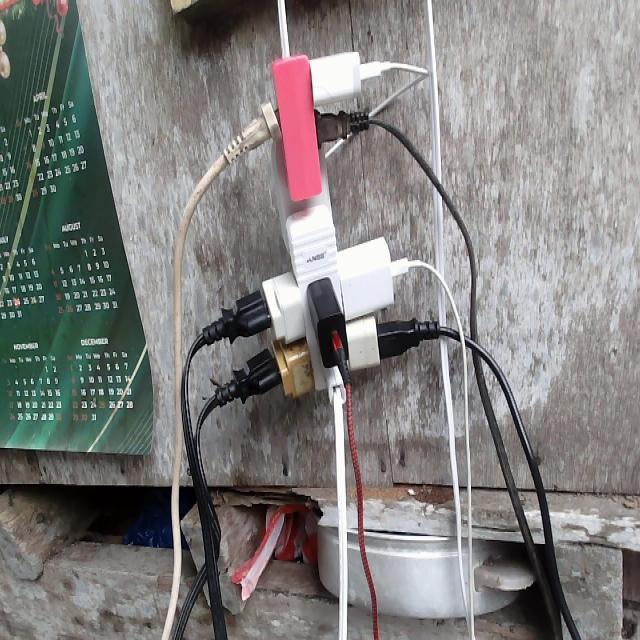-: (221, 48, 427, 400)
